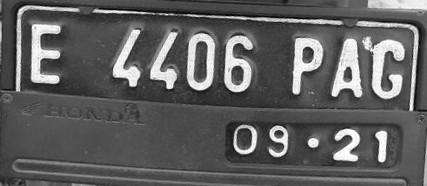0: (182, 28, 218, 96)
4: (101, 25, 149, 89), (146, 27, 186, 92)
6: (218, 30, 259, 96)
A: (325, 35, 367, 101)
E: (24, 18, 68, 88)
G: (366, 41, 411, 103)
P: (284, 34, 328, 98)
